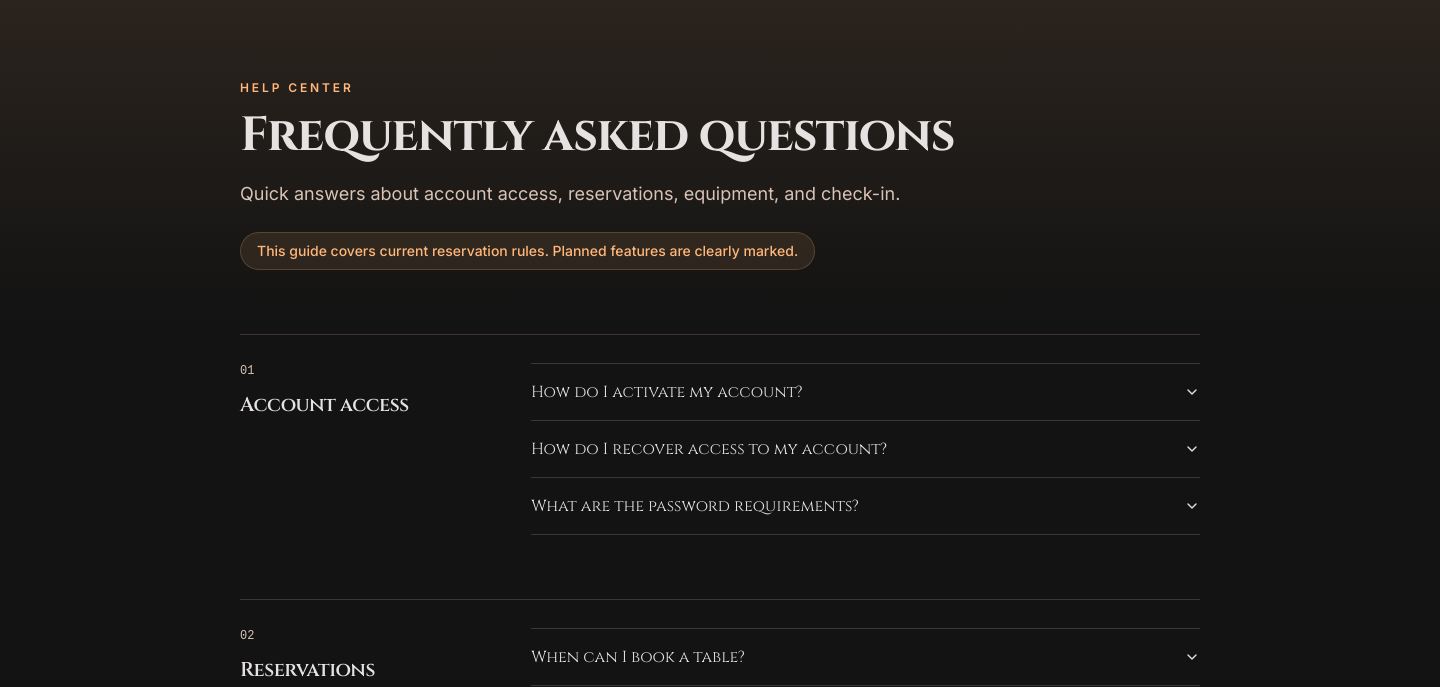
FAQ page › opens an accordion answer
The width and height of the screenshot is (1440, 687).
What coordinates should you click on to do the following:
click the button "How do I activate my account?"
I would click on:
 (667, 392)
Its box is [531, 364, 1200, 420].
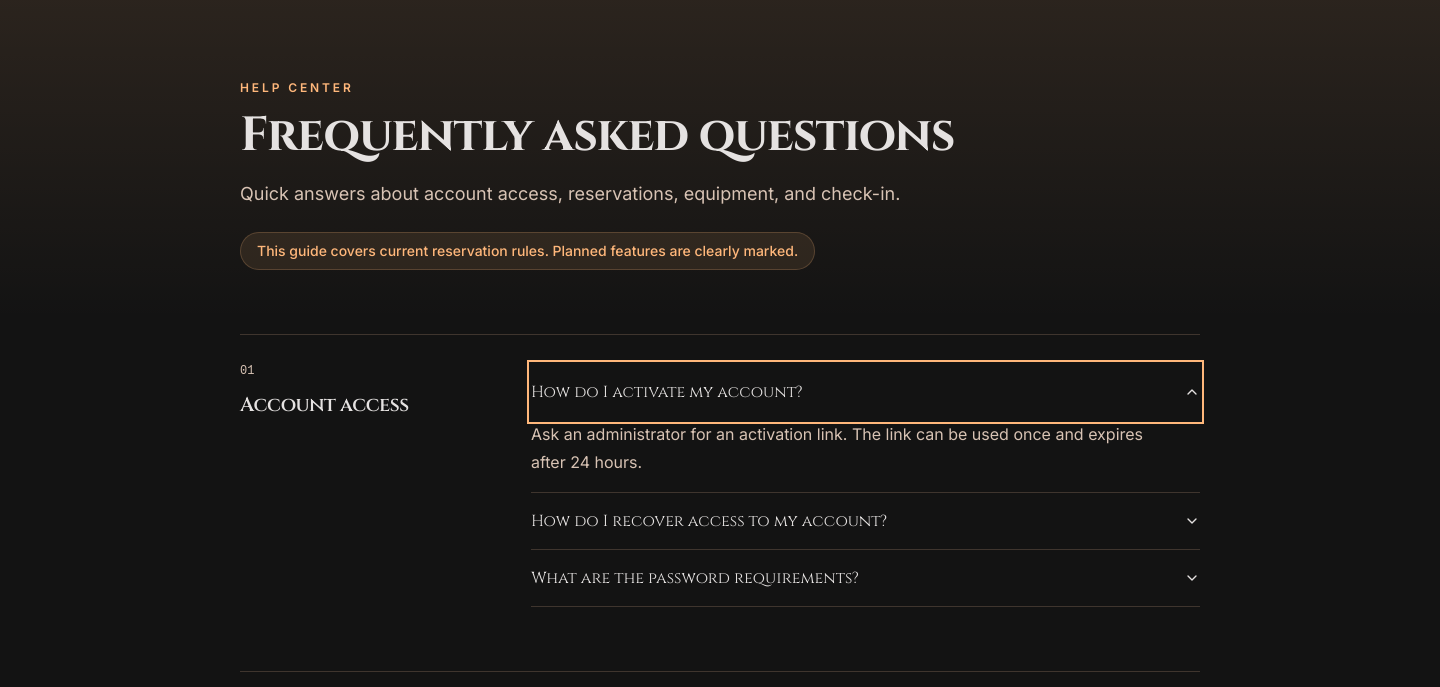
Check: the button "How do I activate my account?" is expanded, box [531, 364, 1200, 420]
Check: the text "Ask an administrator for an activation link" is shown, box [531, 424, 1143, 472]
